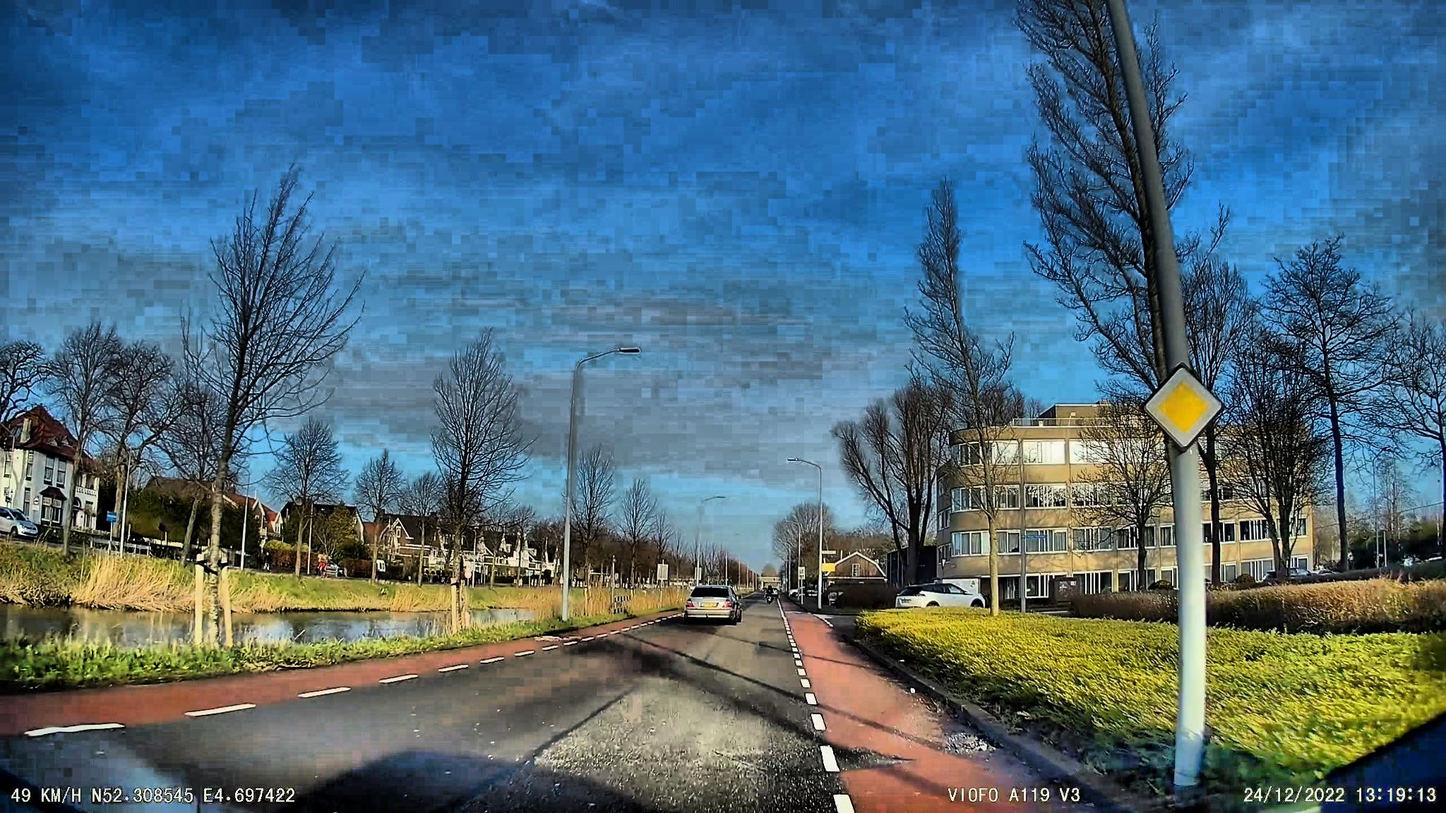Roads: (0, 600, 1121, 813)
